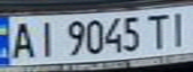0: (84, 16, 106, 56)
4: (103, 15, 127, 54)
5: (121, 14, 145, 53)
9: (60, 17, 87, 57)
A: (3, 19, 39, 60)
I: (30, 17, 60, 60), (163, 8, 193, 48)
T: (142, 11, 172, 50)
